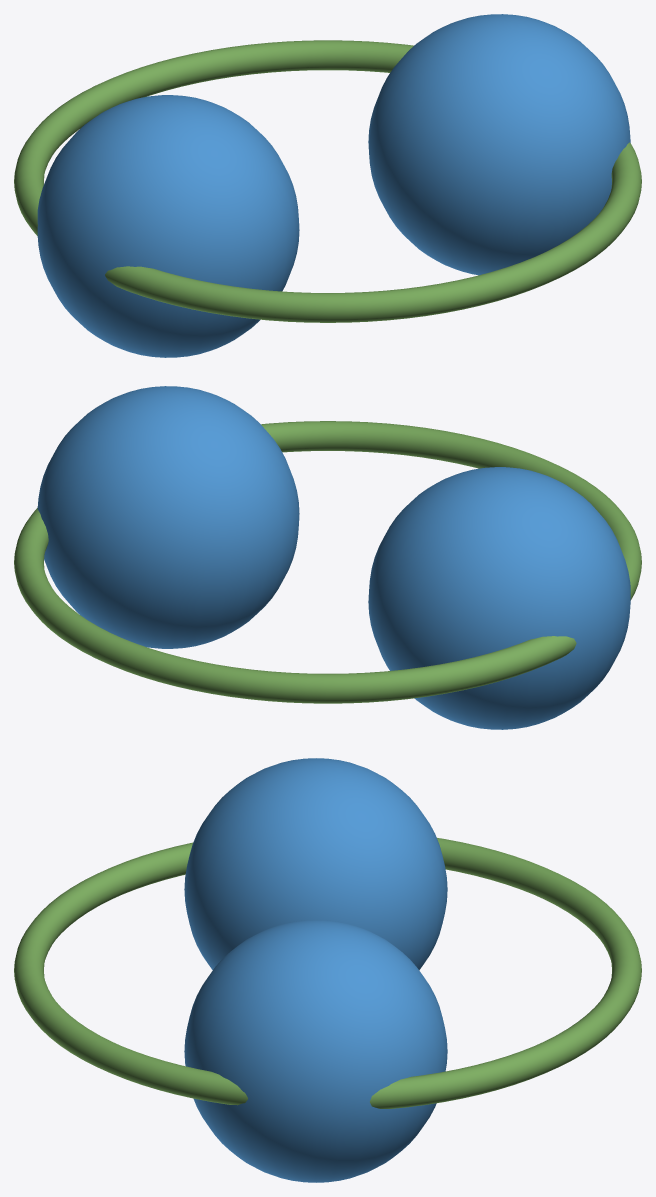
File: bio-genetics-homozygous-pairing.glb
3 views of the same model, one above another, from view 1: azimuth 30°, elevation 25°; view 2: azimuth 150°, elevation 25°; view 3: azimuth 270°, elevation 25° (orthographic).
Parts seen in each view (by area): view 1: matching-allele-copy-right, matching-allele-copy-left, same-same-pairing-bracket; view 2: matching-allele-copy-right, matching-allele-copy-left, same-same-pairing-bracket; view 3: matching-allele-copy-right, matching-allele-copy-left, same-same-pairing-bracket.
Part boxes in pixels (<box>): matching-allele-copy-right: <box>368,14,630,275</box>; matching-allele-copy-left: <box>37,95,299,357</box>; same-same-pairing-bracket: <box>14,40,641,322</box>; matching-allele-copy-right: <box>37,386,299,648</box>; matching-allele-copy-left: <box>368,467,630,729</box>; same-same-pairing-bracket: <box>14,421,641,703</box>; matching-allele-copy-right: <box>184,920,447,1182</box>; matching-allele-copy-left: <box>184,758,447,970</box>; same-same-pairing-bracket: <box>14,838,641,1108</box>.
Size of what is drawn, in the model's own units: 1.08 by 0.44 by 1.05.
